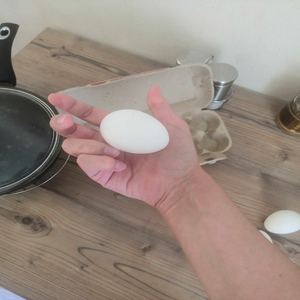white egg: (99, 107, 170, 154), (263, 209, 300, 235)
